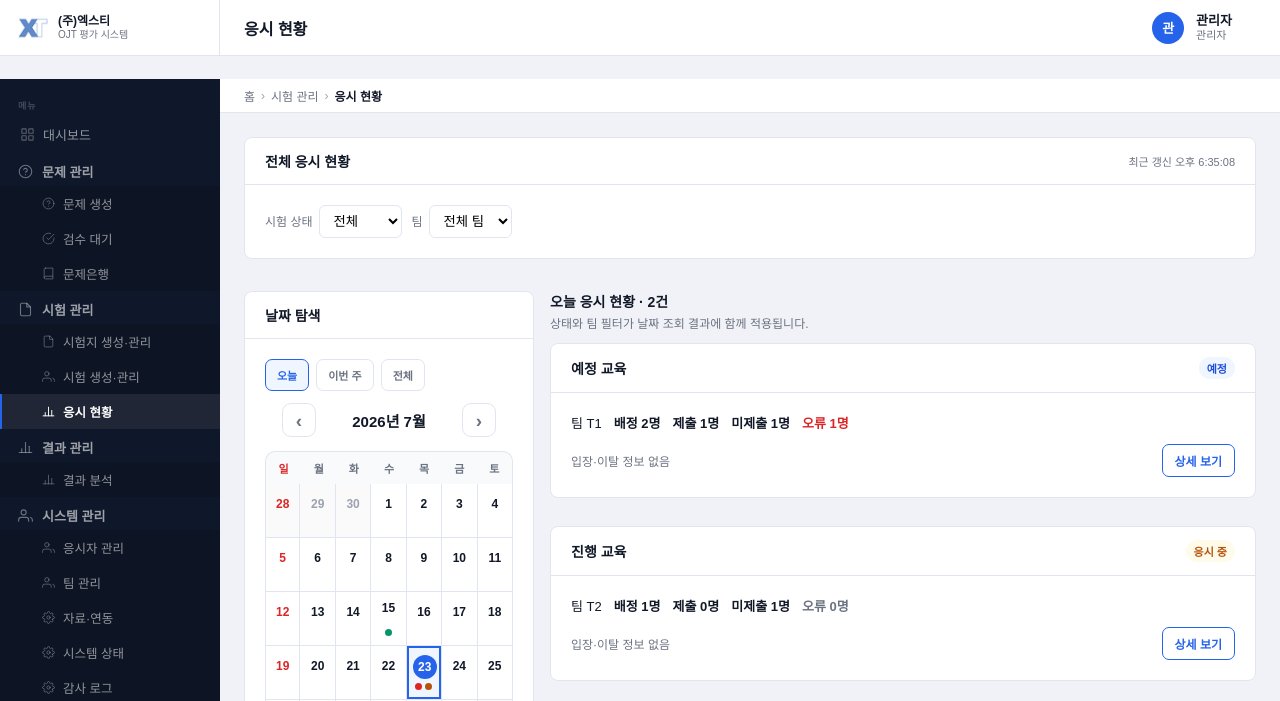
Test: routed exam live overview › defaults to today and stores quick date range changes in the URL
Expected: the text "예정 교육" is shown, [571, 358, 626, 378]
Expected: the text "진행 교육" is shown, [571, 541, 626, 561]
Click the button "전체" at x=403, y=375, box [381, 359, 425, 391]
(page scrolled)
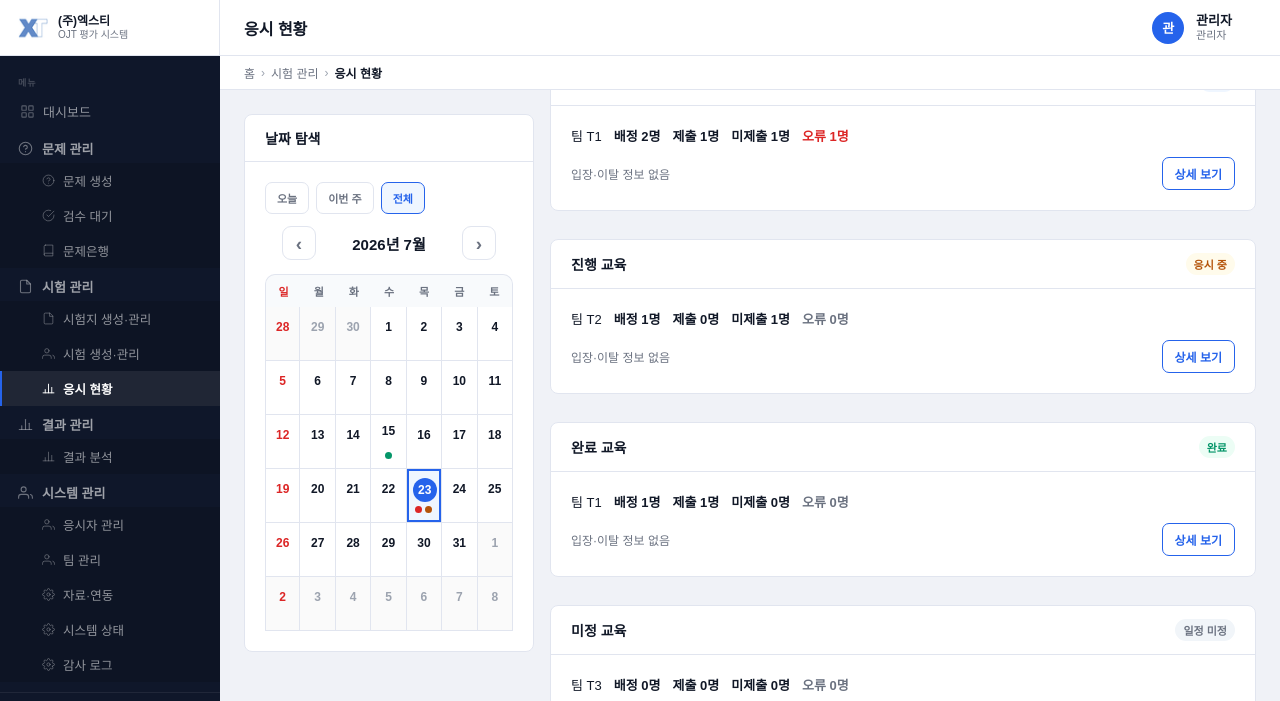
Expected: the text "완료 교육" is shown, [571, 437, 626, 457]
Expected: the text "미정 교육" is shown, [571, 620, 626, 640]
